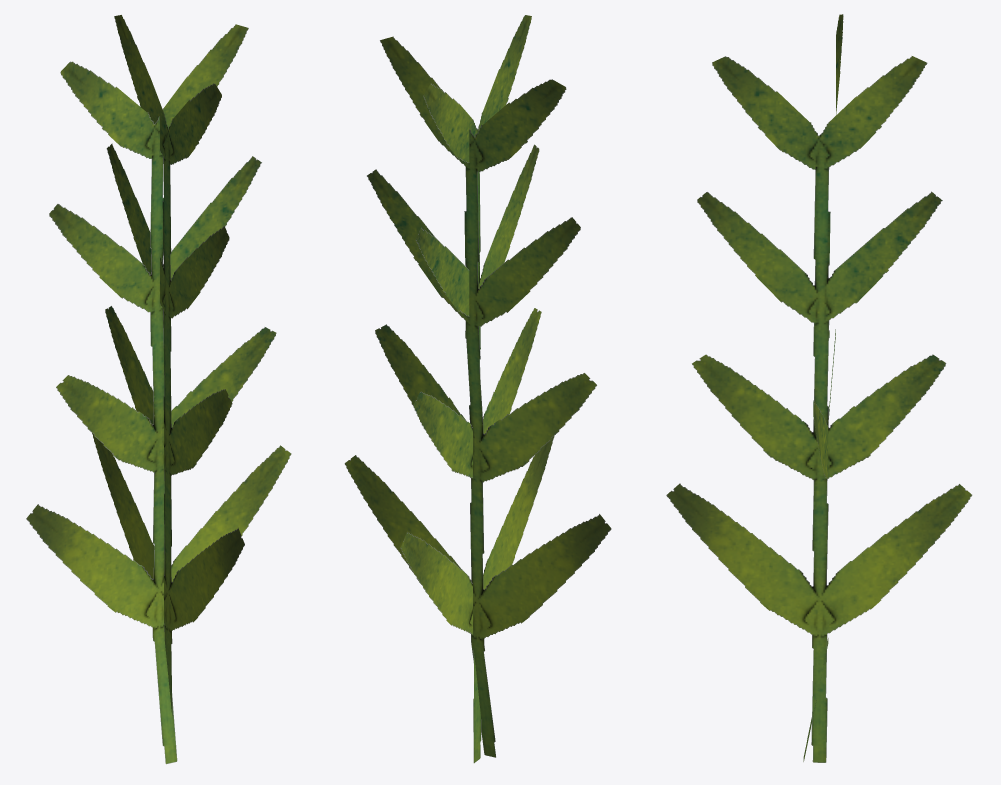
File: Terrain_Grass_07.fbx
The picture shows the model from 3 angles, left to right: view 1: azimuth 30°, elevation 25°; view 2: azimuth 150°, elevation 25°; view 3: azimuth 270°, elevation 25°; orthographic projection.
Visible parts, largest first — view 1: Grass_07; view 2: Grass_07; view 3: Grass_07.
Boxes of the visible parts, bbox=[...] form: Grass_07: bbox=[26, 15, 291, 764]; Grass_07: bbox=[344, 15, 611, 763]; Grass_07: bbox=[666, 14, 972, 762].
Size of the model in its own units: 0.00393 by 0.00928 by 0.00393.
